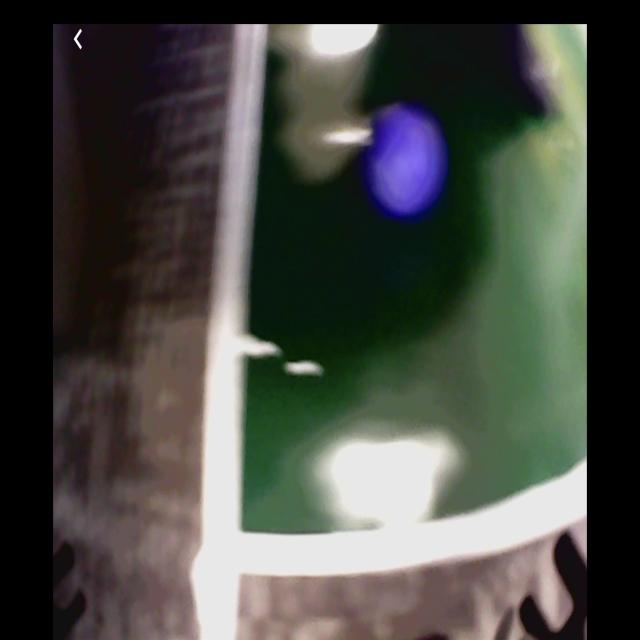ball: (374, 107, 446, 220)
